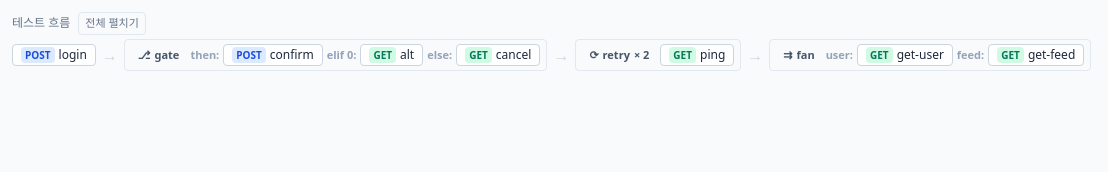
Test: TestFlowChips — 칩 스트립 높이 캡 + 펼치기 토글 (editor-wide-view-overflow R1/R2) › T8: 펼친 동안의 RO 재측정이 overflowing을 지우지 않음 — 접기 시 토글·포커스 유지
The image size is (1108, 172).
Click the button "전체 펼치기".
click(112, 23)  # box [78,12,146,34]
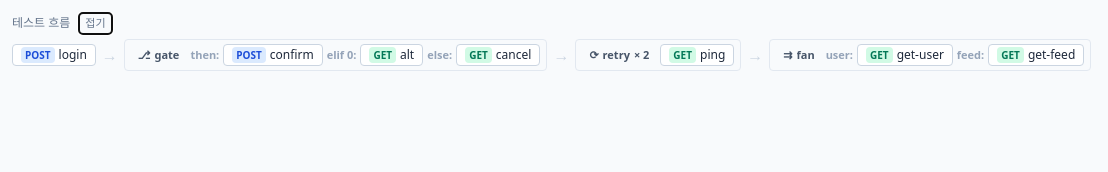
Click the button "접기".
click(95, 23)  # box [78,12,113,34]
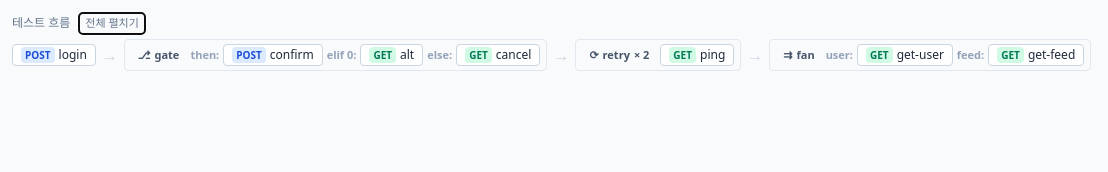
Check: the button "전체 펼치기" is shown, box [78,12,146,34]
